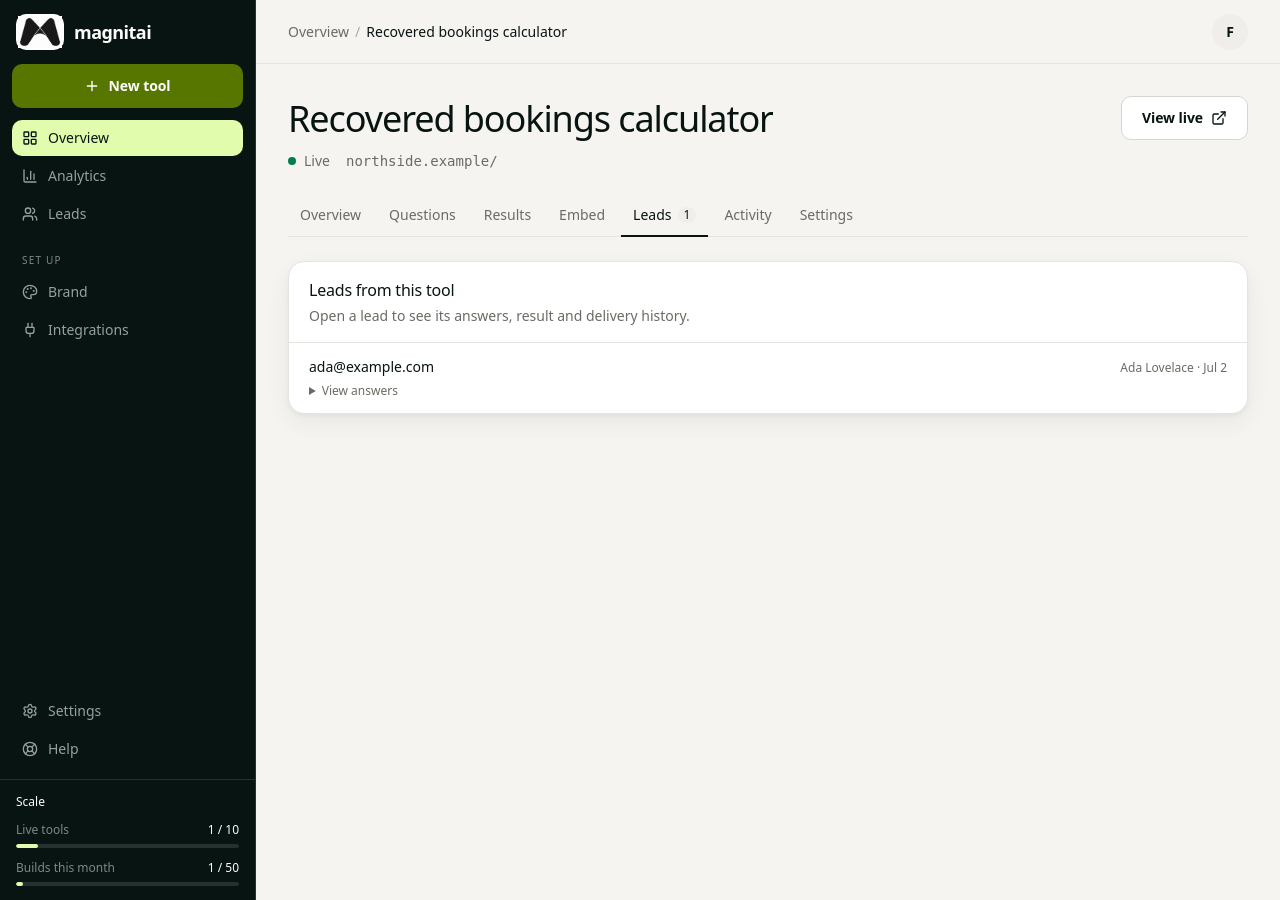
it: widget detail · leads › keeps the answers behind a disclosure rather than flooding the row
Step 1. Click the heading "View answers" → x=360, y=390, box x1=322 y1=382 x2=398 y2=399
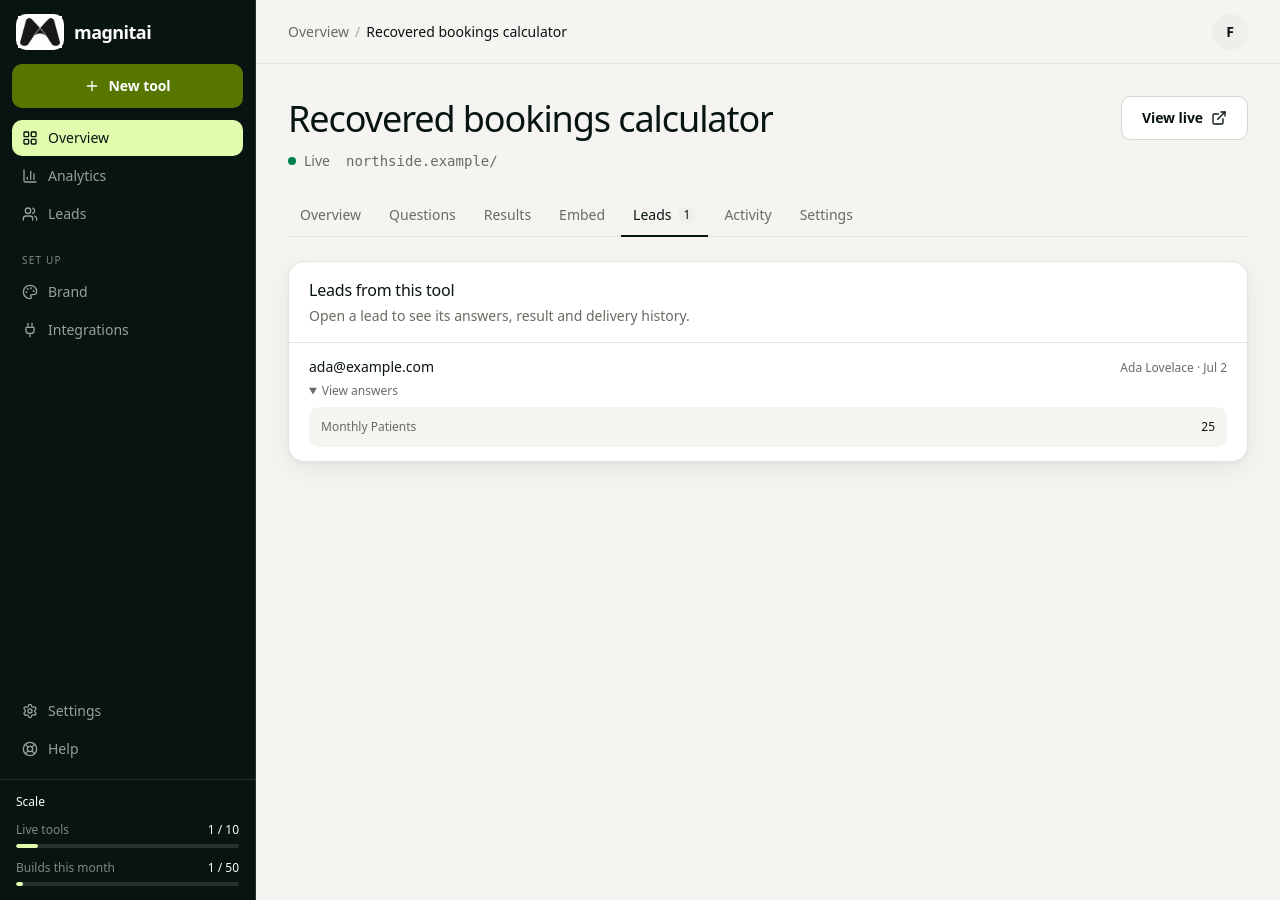
Result: the text "monthly patients" is shown at x1=321 y1=419 x2=416 y2=435
Result: the text "25" is shown at x1=1201 y1=419 x2=1215 y2=435
